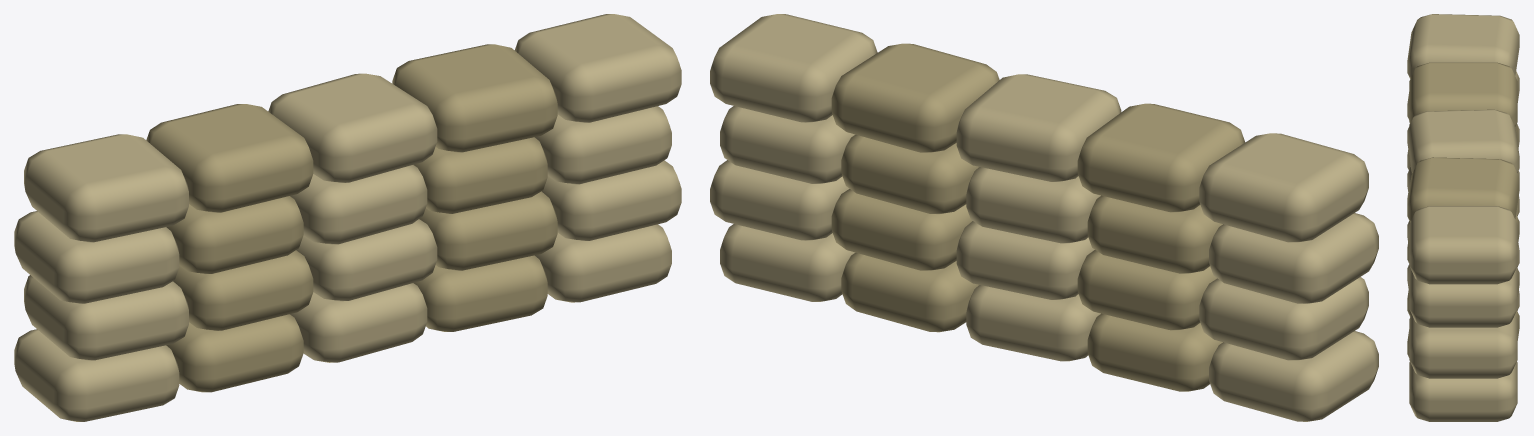
File: SM_SandbagCover_01.glb
3 renders of one model, left to right at view 1: azimuth 30°, elevation 25°; view 2: azimuth 150°, elevation 25°; view 3: azimuth 270°, elevation 25°, orthographic. The views are drawn at different scales.
Parts seen in each view (by area): view 1: SM_SandbagCover_01; view 2: SM_SandbagCover_01; view 3: SM_SandbagCover_01.
Part boxes in pixels (x1,y1,x2,y2): SM_SandbagCover_01: (14,14,681,421); SM_SandbagCover_01: (710,14,1378,421); SM_SandbagCover_01: (1407,14,1519,421).
Size of the model in its own units: 2.54 by 0.92 by 0.4977.
